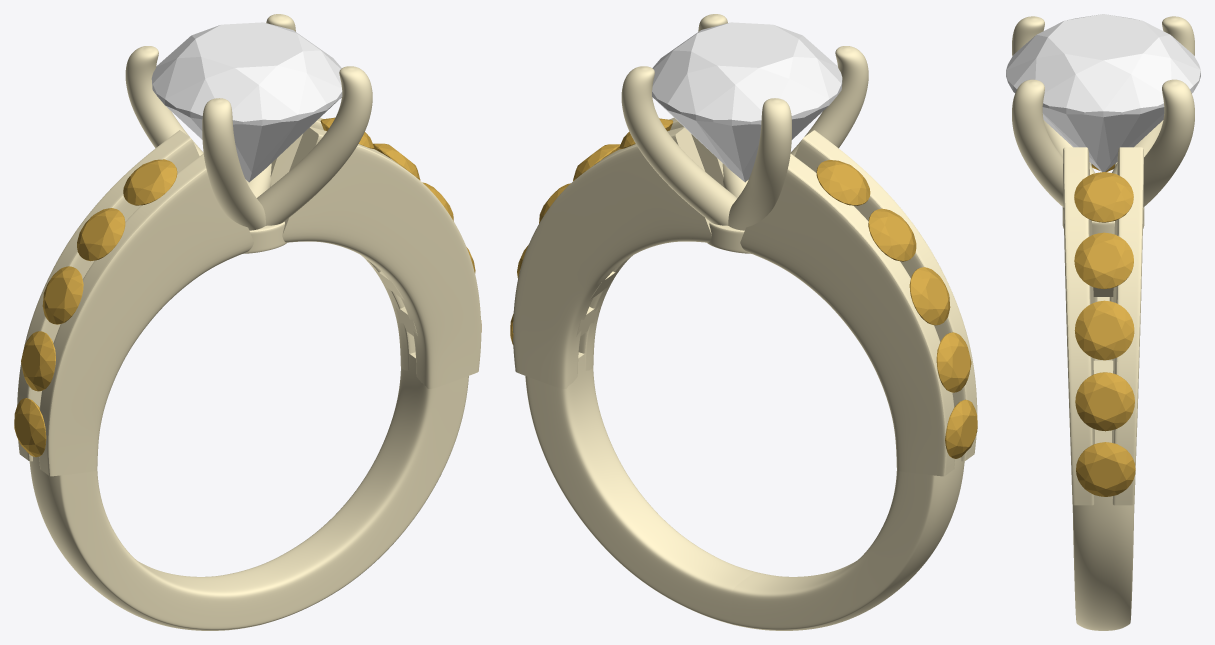
Rendered from puzzle_23.glb.
The picture shows the model from 3 angles, left to right: view 1: azimuth 30°, elevation 25°; view 2: azimuth 150°, elevation 25°; view 3: azimuth 270°, elevation 25°; orthographic projection.
Visible parts, largest first — view 1: G1_Obj_6_Gold3, G1_Obj_7_Gem3_X, G1_Obj_2_Gold3, G1_Obj_4_Gold3, G1_Obj_5_Gold3, G1_Obj_9_Gem11, G1_Obj_10_Gem11, G1_Obj_8_Gem11, G1_Obj_11_Gem11, G1_Obj_12_Gem11, G1_Obj_1_Gold3, G1_Obj_3_Gold3; view 2: G1_Obj_6_Gold3, G1_Obj_7_Gem3_X, G1_Obj_3_Gold3, G1_Obj_5_Gold3, G1_Obj_4_Gold3, G1_Obj_9_Gem11, G1_Obj_10_Gem11, G1_Obj_8_Gem11, G1_Obj_11_Gem11, G1_Obj_12_Gem11, G1_Obj_1_Gold3, G1_Obj_2_Gold3; view 3: G1_Obj_6_Gold3, G1_Obj_7_Gem3_X, G1_Obj_2_Gold3, G1_Obj_3_Gold3, G1_Obj_15_Gem11, G1_Obj_16_Gem11, G1_Obj_14_Gem11, G1_Obj_17_Gem11, G1_Obj_13_Gem11, G1_Obj_4_Gold3, G1_Obj_5_Gold3, G1_Obj_1_Gold3.
Boxes of the visible parts, x1,y1,x2,y2 form: G1_Obj_6_Gold3: (17,117,481,630); G1_Obj_7_Gem3_X: (151,22,342,182); G1_Obj_2_Gold3: (257,66,372,225); G1_Obj_4_Gold3: (202,98,265,230); G1_Obj_5_Gold3: (125,46,203,155); G1_Obj_9_Gem11: (77,208,125,261); G1_Obj_10_Gem11: (42,266,83,324); G1_Obj_8_Gem11: (123,159,177,205); G1_Obj_11_Gem11: (21,331,55,391); G1_Obj_12_Gem11: (14,398,46,457); G1_Obj_1_Gold3: (243,221,286,253); G1_Obj_3_Gold3: (246,14,295,197); G1_Obj_6_Gold3: (513,118,977,630); G1_Obj_7_Gem3_X: (652,22,842,182); G1_Obj_3_Gold3: (621,66,737,225); G1_Obj_5_Gold3: (728,98,791,230); G1_Obj_4_Gold3: (790,46,868,155); G1_Obj_9_Gem11: (868,208,916,261); G1_Obj_10_Gem11: (909,267,950,325); G1_Obj_8_Gem11: (816,160,870,205); G1_Obj_11_Gem11: (936,332,971,392); G1_Obj_12_Gem11: (945,399,977,458); G1_Obj_1_Gold3: (707,222,751,253); G1_Obj_2_Gold3: (698,14,748,197); G1_Obj_6_Gold3: (1063,147,1143,630); G1_Obj_7_Gem3_X: (1006,14,1200,171); G1_Obj_2_Gold3: (1012,79,1063,207); G1_Obj_3_Gold3: (1143,79,1194,207); G1_Obj_15_Gem11: (1074,300,1134,360); G1_Obj_16_Gem11: (1075,372,1134,431); G1_Obj_14_Gem11: (1074,232,1133,289); G1_Obj_17_Gem11: (1076,442,1135,496); G1_Obj_13_Gem11: (1074,172,1133,222); G1_Obj_4_Gold3: (1012,16,1094,174); G1_Obj_5_Gold3: (1112,16,1194,174); G1_Obj_1_Gold3: (1062,207,1144,234).
Size of the model in its own units: 2.33 by 2.85 by 0.8821.
